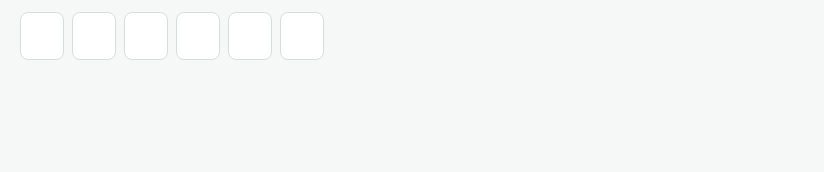
Test: OtpInput › distributes a pasted code across the boxes
Click the field named "code 1" at (42, 36), box top-left (20, 12), bottom-right (64, 60)
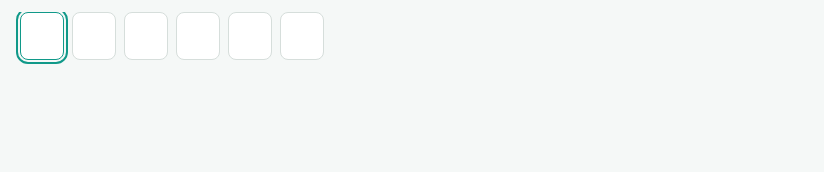
Type keys "123456"
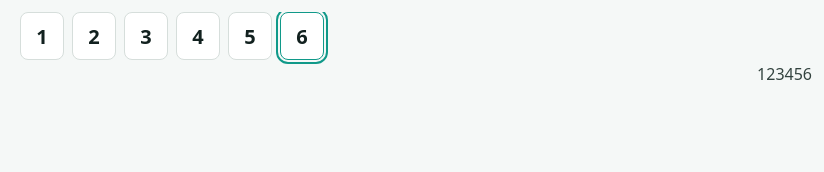
Now the text "123456" is shown, box top-left (757, 63), bottom-right (812, 85)
